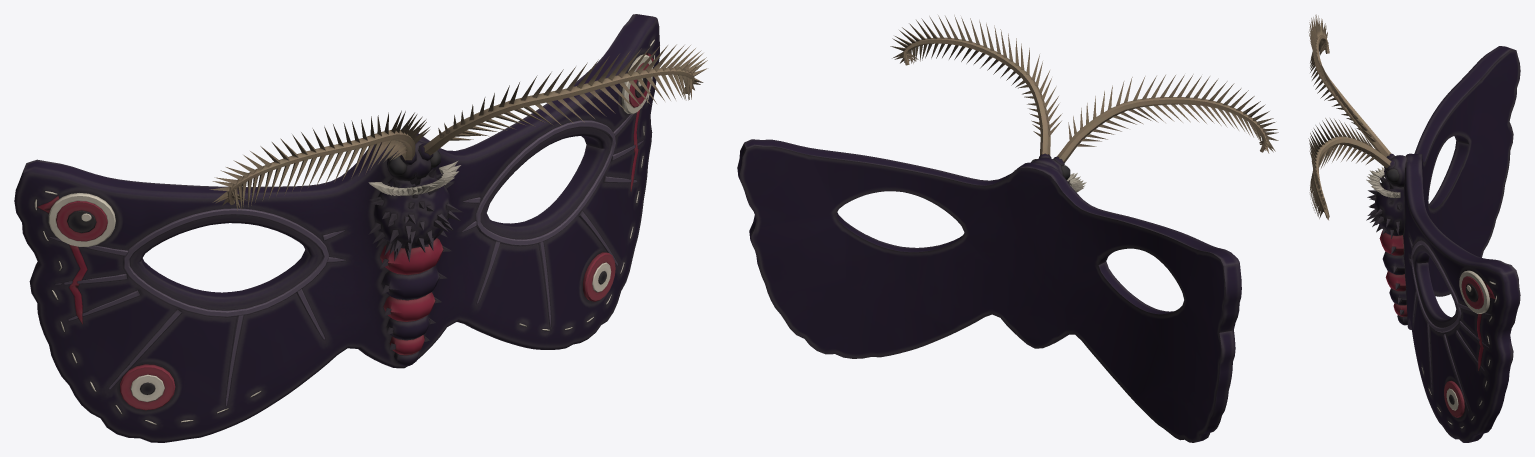
Rendered from NHAcc_MothMask.fbx.
3 renders of one model, left to right at view 1: azimuth 30°, elevation 25°; view 2: azimuth 150°, elevation 25°; view 3: azimuth 270°, elevation 25°, orthographic. The views are drawn at different scales.
Parts seen in each view (by area): view 1: MothMask; view 2: MothMask; view 3: MothMask.
Part boxes in pixels (x1,y1,x2,y2): MothMask: (14, 14, 707, 442); MothMask: (737, 15, 1278, 442); MothMask: (1308, 14, 1520, 442).
Bounding box in the file's own units: 0.8257 × 0.4577 × 0.3185.
Materials: 1 (1 with a texture image).
